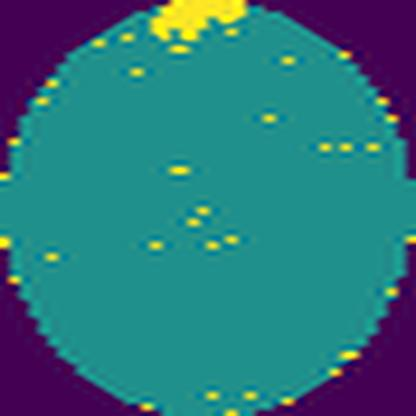Edge-Loc: (148, 0, 260, 50)
